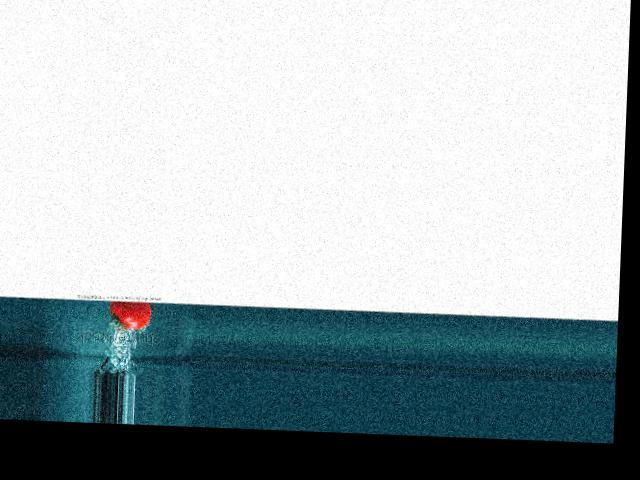tomato: (107, 300, 150, 330)
